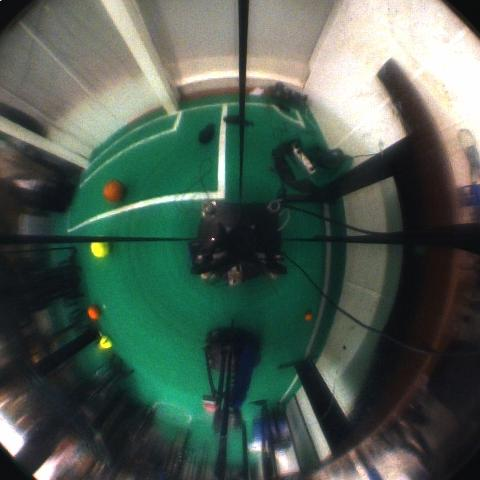ball: (90, 237, 109, 259), (104, 182, 123, 203), (88, 306, 100, 319), (100, 336, 112, 349), (305, 314, 311, 321)
goal: (103, 5, 178, 115), (1, 117, 90, 168)
robot: (203, 327, 263, 445)
